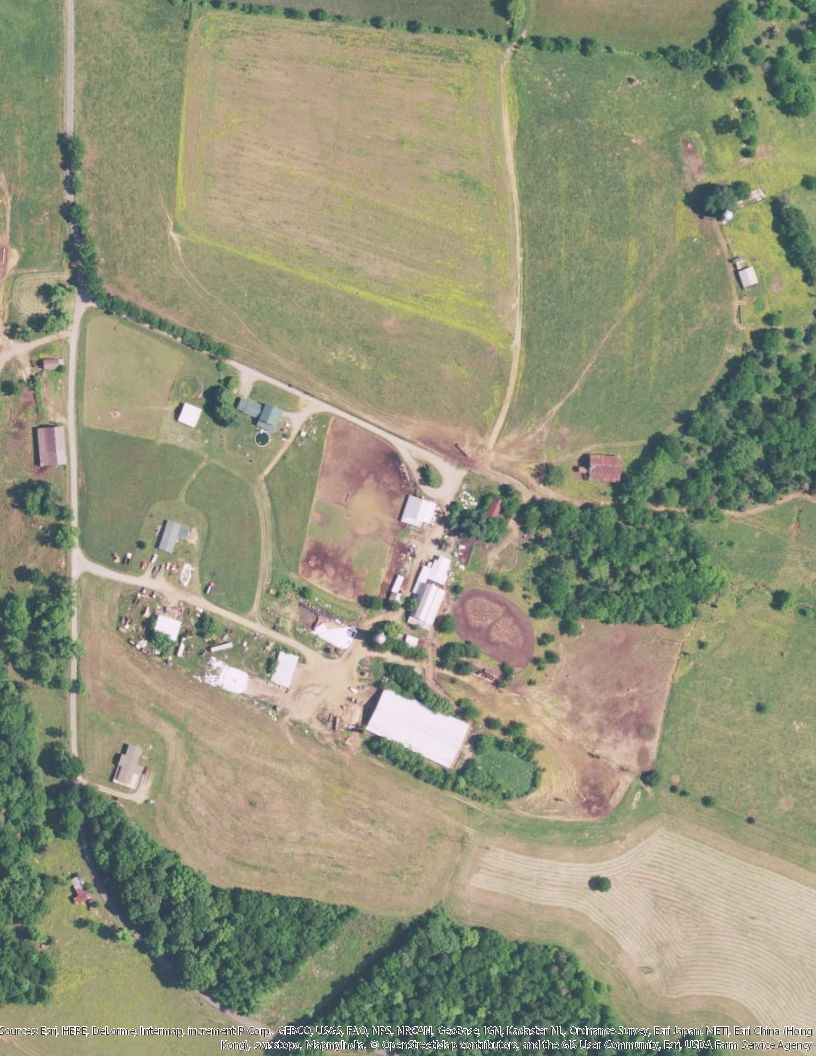cafo: (361, 681, 481, 775), (396, 550, 463, 634), (396, 491, 439, 534)
